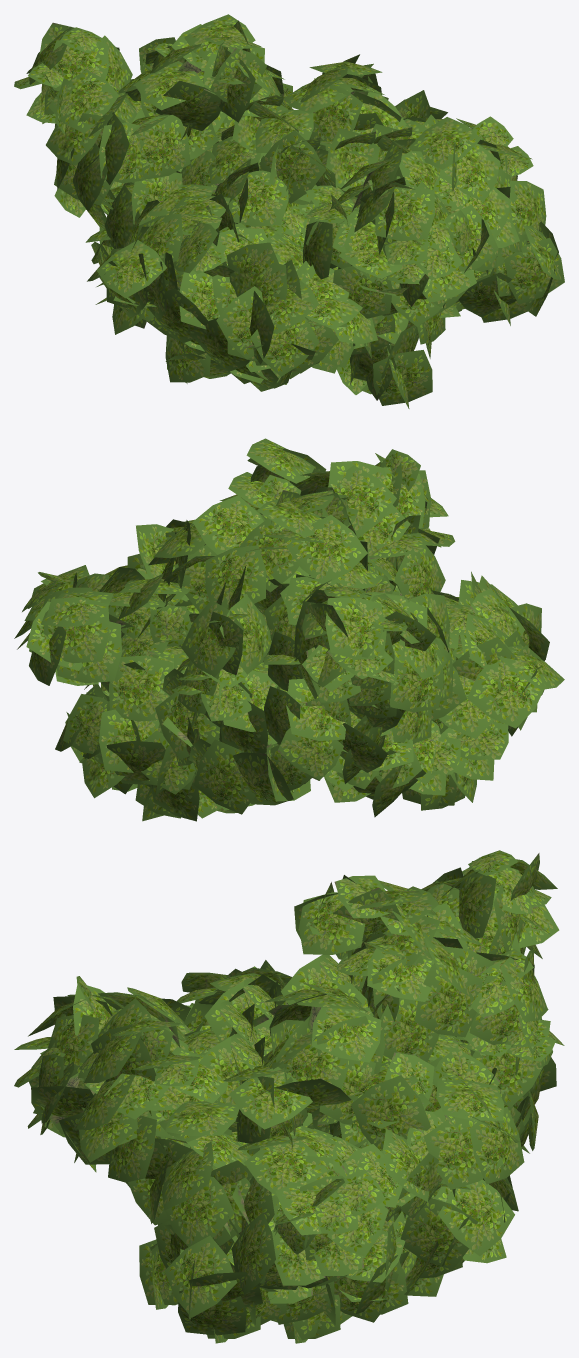
Rendered from OldOakLeaves_01.fbx.
3 renders of one model, top to bottom at view 1: azimuth 30°, elevation 25°; view 2: azimuth 150°, elevation 25°; view 3: azimuth 270°, elevation 25°, orthographic. The views are drawn at different scales.
Parts seen in each view (by area): view 1: polySurface1867; view 2: polySurface1867; view 3: polySurface1867.
Boxes of the visible parts, box(x1,y1,x2,y2) form: polySurface1867: box(14, 14, 564, 408); polySurface1867: box(14, 438, 564, 821); polySurface1867: box(14, 850, 564, 1343).
Size of the model in its own units: 1184 by 837 by 1100.
1 material, 1 textured.
